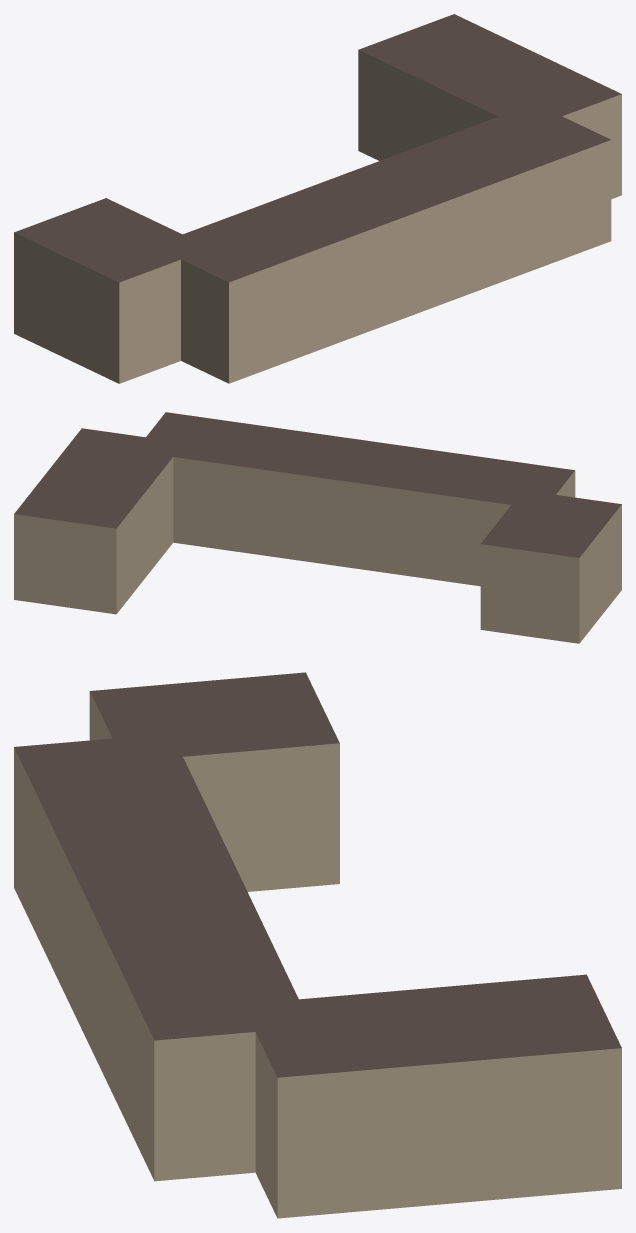
3 views of the same model, one above another, from view 1: azimuth 30°, elevation 25°; view 2: azimuth 150°, elevation 25°; view 3: azimuth 270°, elevation 25° (orthographic). The views are drawn at different scales.
Visible parts, largest first — view 1: HP-w859488897; view 2: HP-w859488897; view 3: HP-w859488897.
Boxes of the visible parts, box(x1,y1,x2,y2) form: HP-w859488897: box(14, 14, 621, 383); HP-w859488897: box(14, 412, 621, 643); HP-w859488897: box(14, 672, 621, 1218).
Size of the model in its own units: 55.57 by 9 by 35.22.
